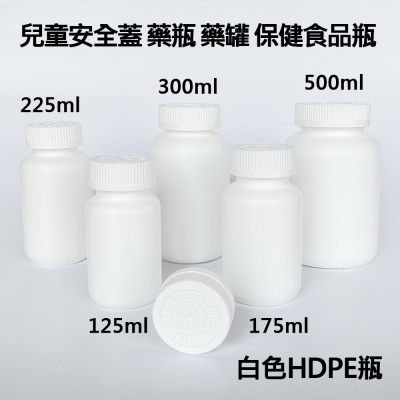medicinejar: (282, 100, 385, 276), (221, 138, 306, 309), (148, 102, 231, 267), (86, 155, 165, 308), (21, 122, 97, 271)
